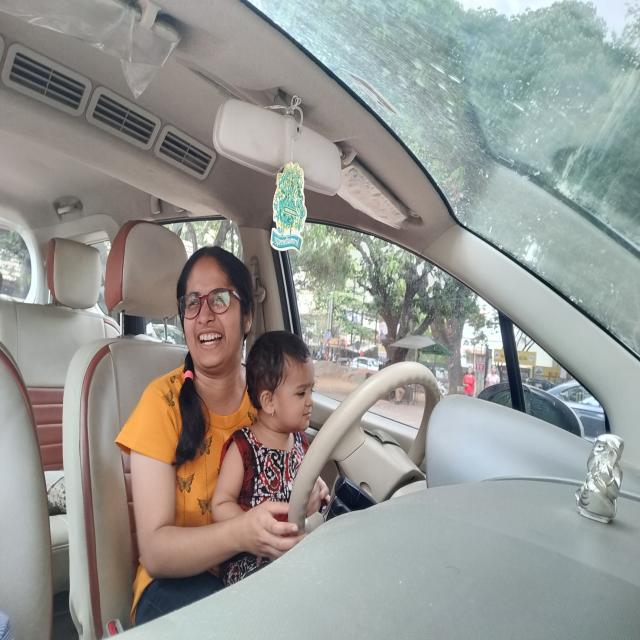child: (245, 325, 318, 430)
person: (172, 245, 256, 374)
